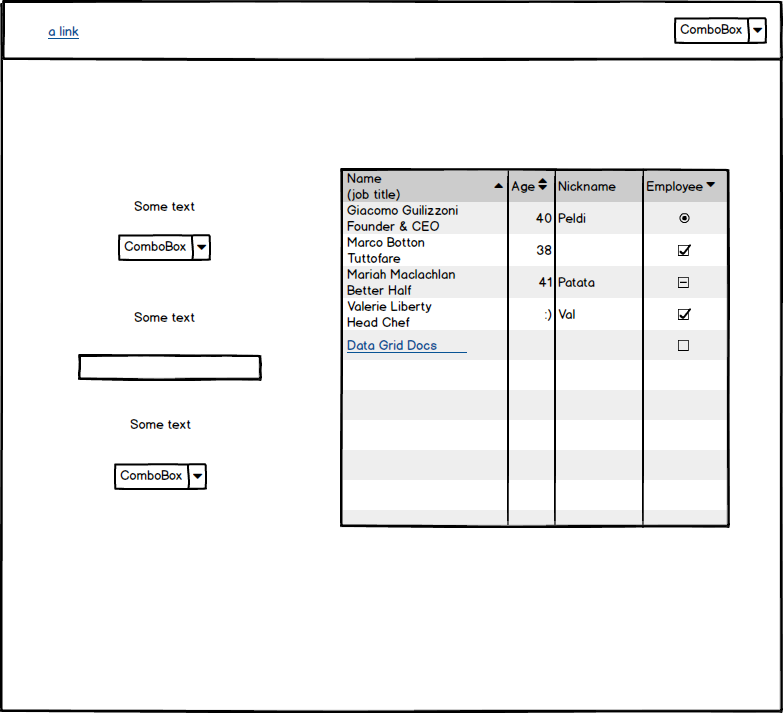input: (70, 350, 269, 386)
label: (126, 192, 206, 220), (126, 304, 206, 331), (127, 412, 196, 434)
navlink: (37, 23, 90, 44)
select_box: (114, 228, 218, 266), (109, 459, 211, 493), (670, 13, 772, 47)
table: (332, 164, 734, 534)
